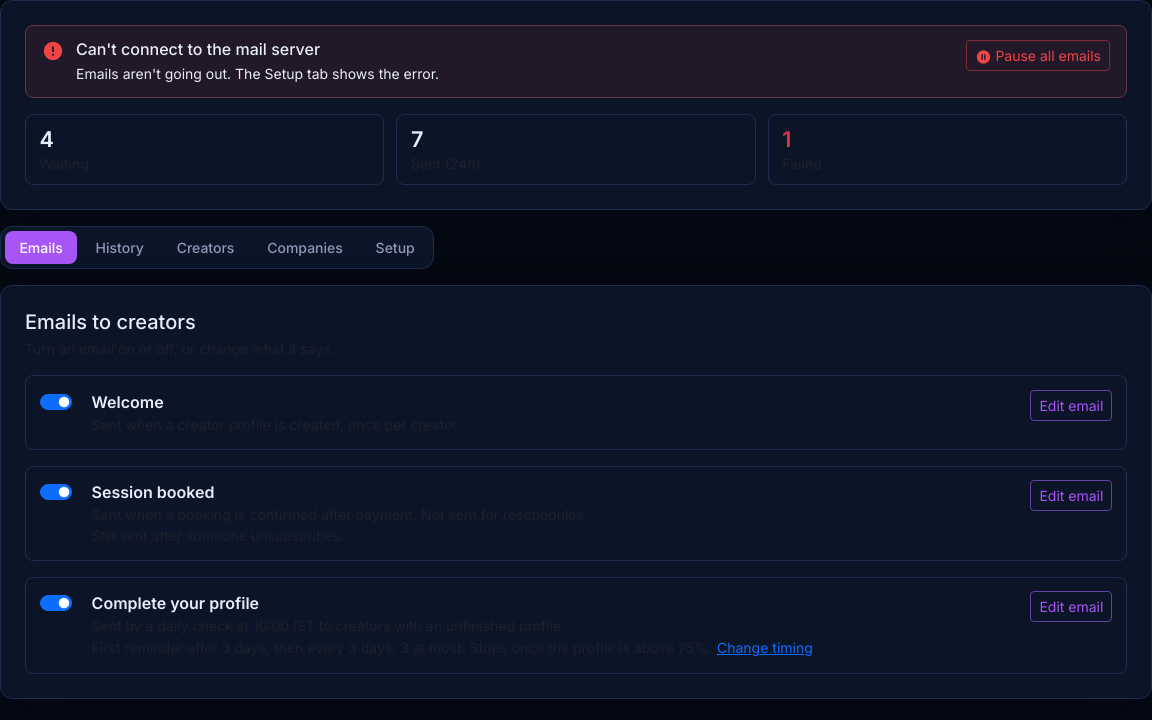
Test: Email control › shows a mail server error on the Setup tab
Click the tab "Setup" at (395, 248), box [361,231,429,264]
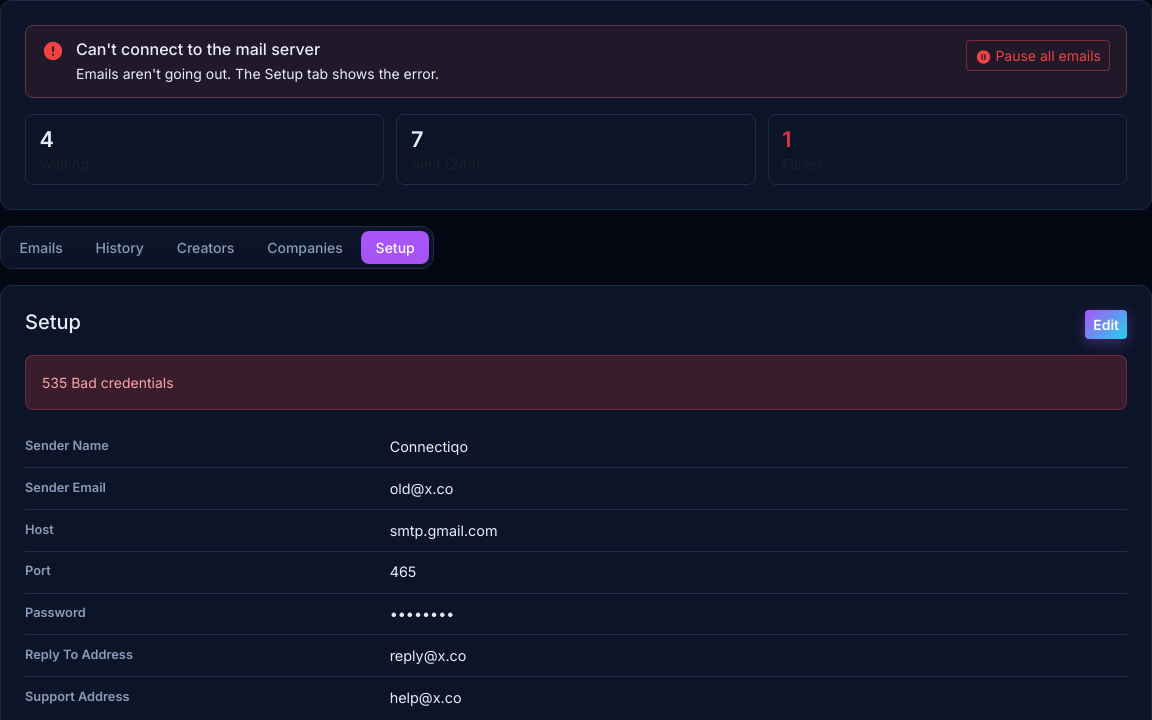
Expected: the message "535 Bad credentials" is shown, [25,355,1127,410]
